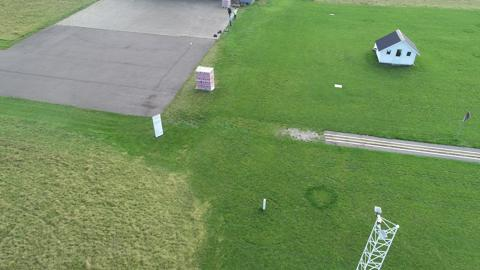RockwoolPallet: (195, 66, 216, 92)
